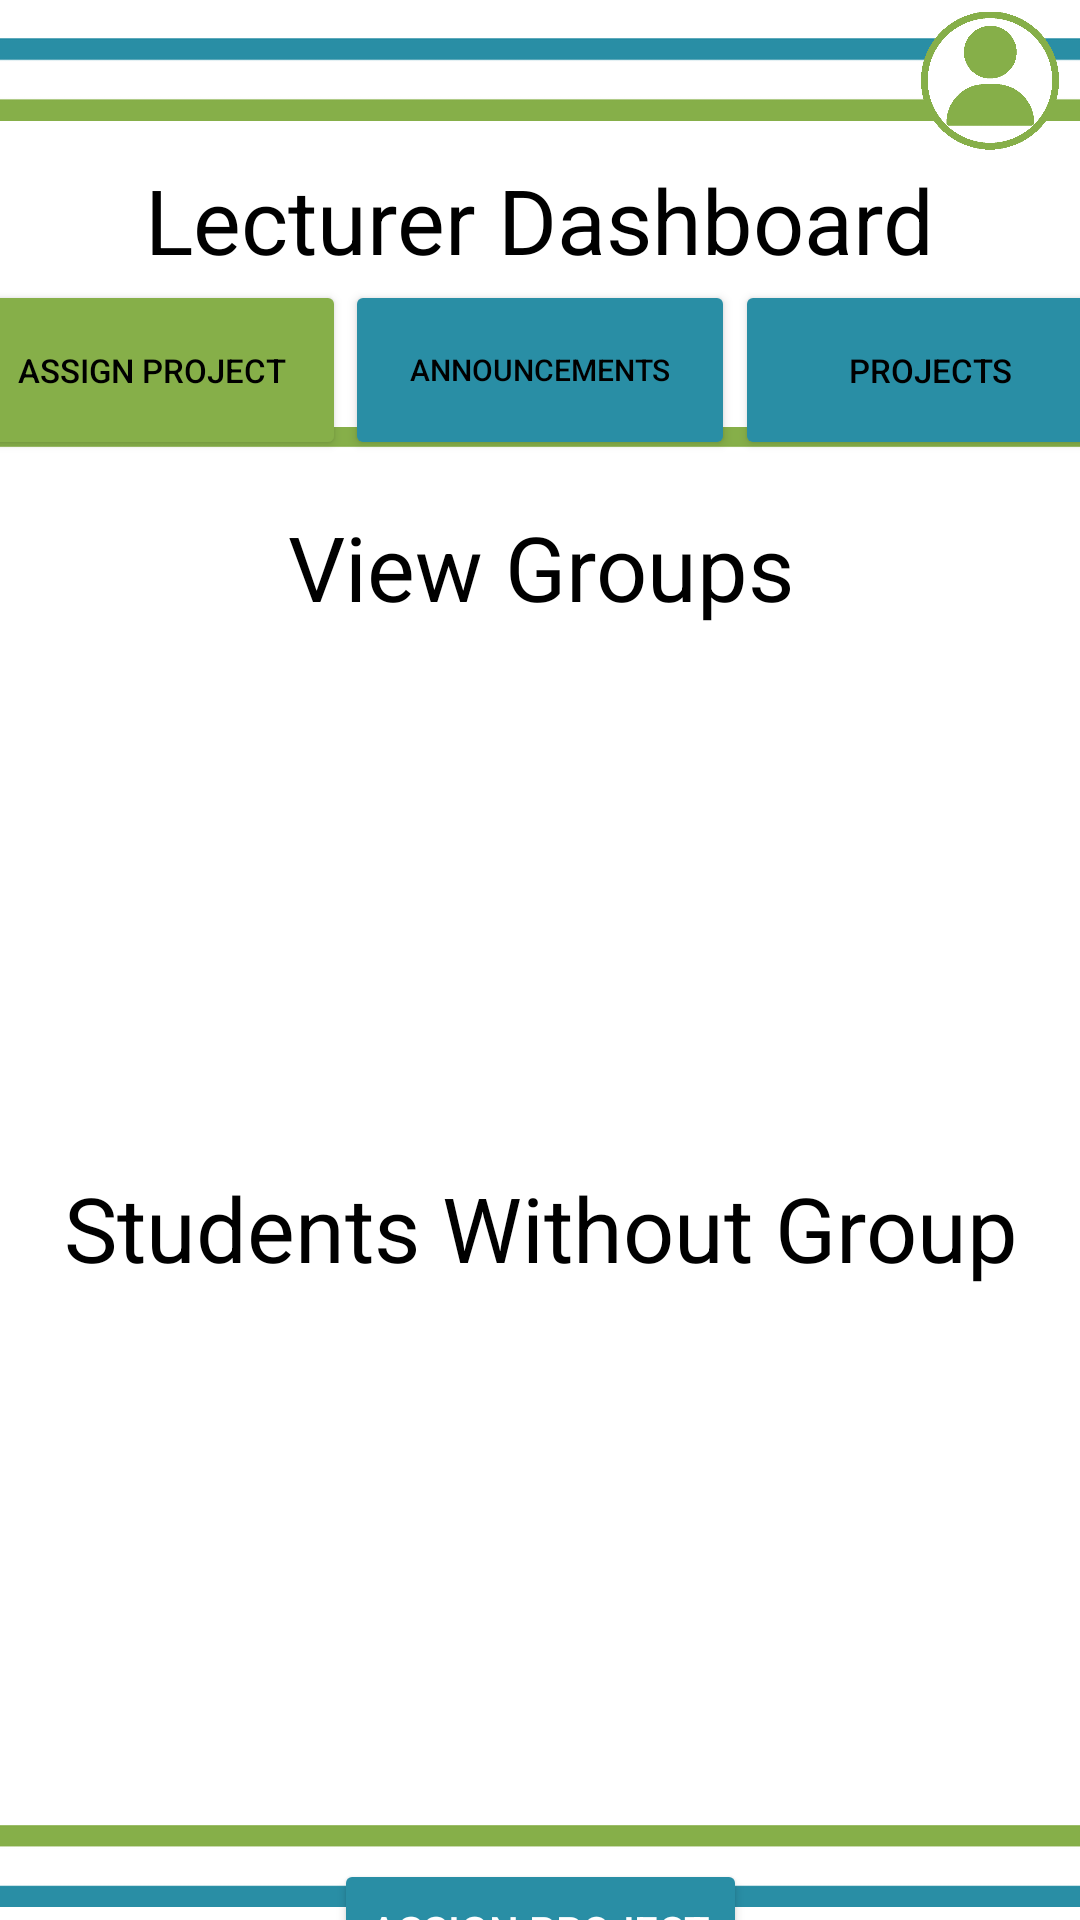

Icons on this 1080 × 1920 Android screen, each with the point to tap as point (x, y):
user: point (990, 81)
